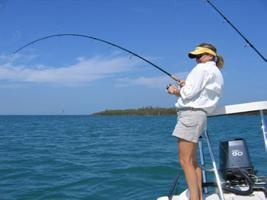person without safety: (164, 40, 224, 200)
